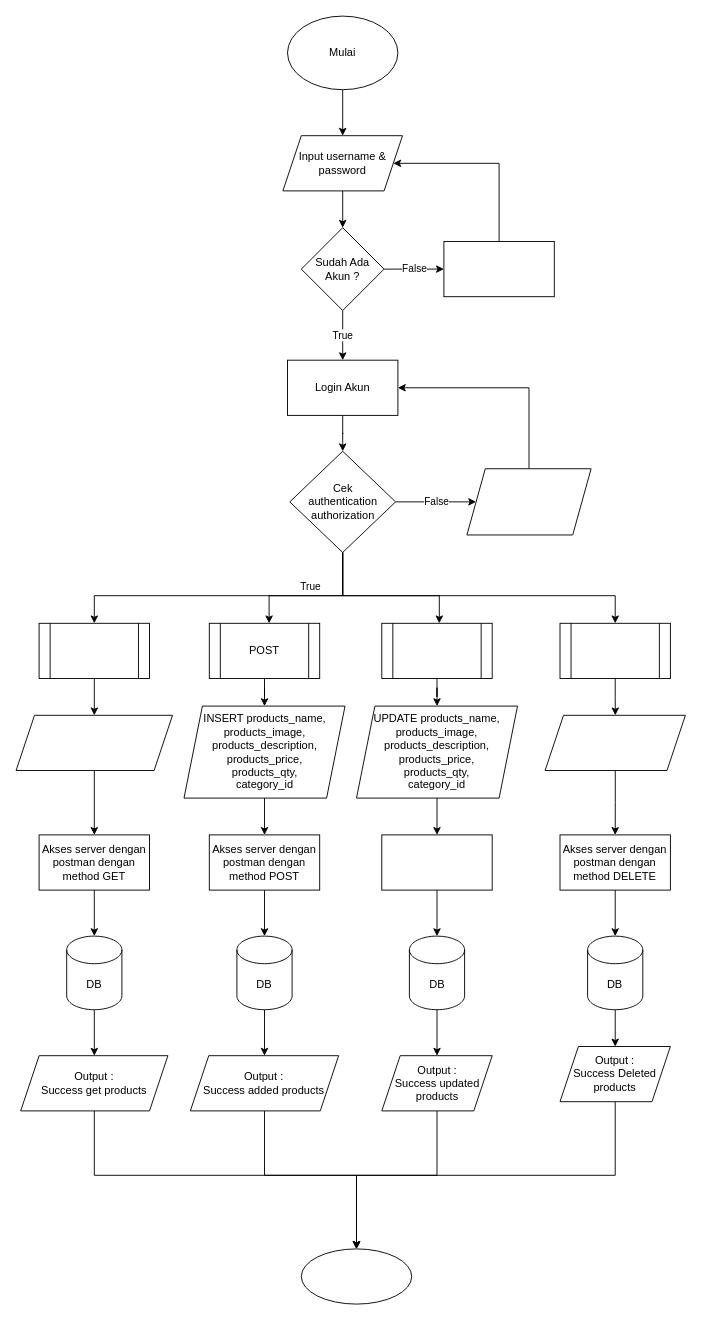
The diagram is 702 pixels wide and 1320 high, and some of its shapes have lost their labels. Here are the shapes that lost their labels. From the top down, the centre of each, then its label:
the point at 498,269: Daftar Akun
the point at 528,501: Aktivasi akun
the point at 94,650: GET
the point at 436,650: PUT
the point at 614,650: DELETE
the point at 93,742: SELECT * FROM products SELECT products_id
the point at 614,742: DELETE products_id
the point at 436,862: Akses server dengan postman dengan method PUT
the point at 356,1276: Selesai
